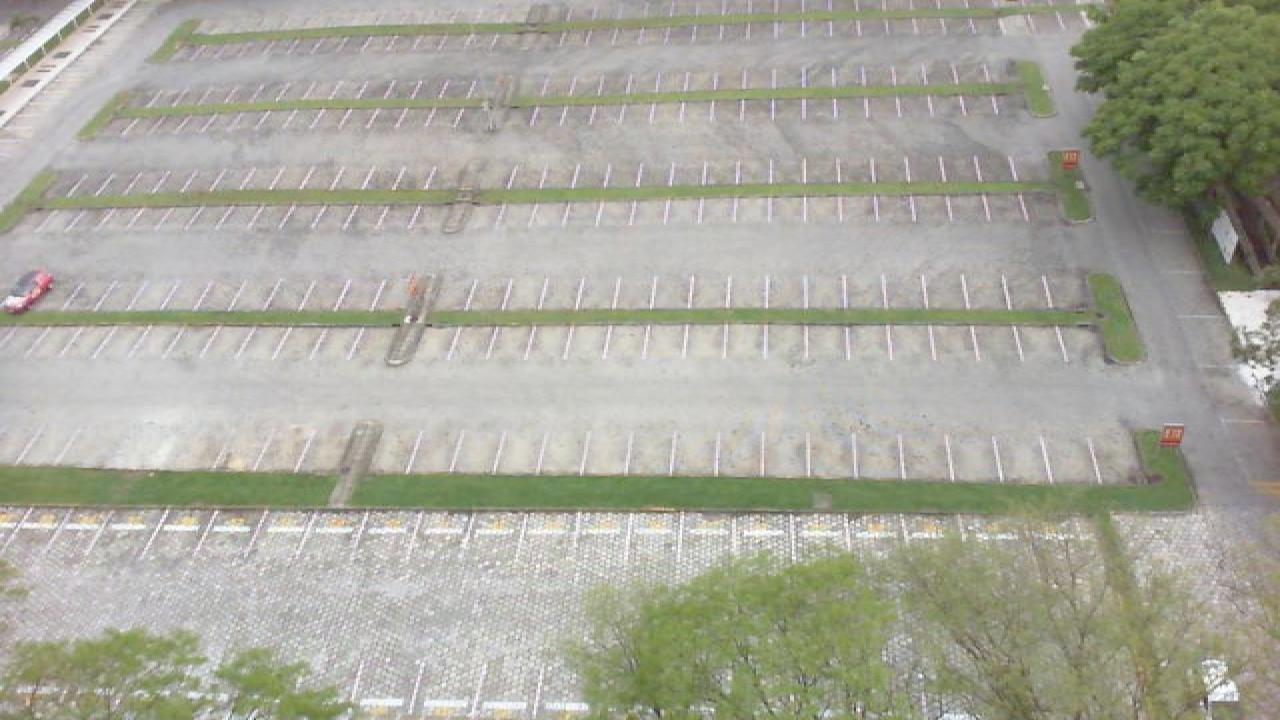Car: (0, 269, 52, 314)
